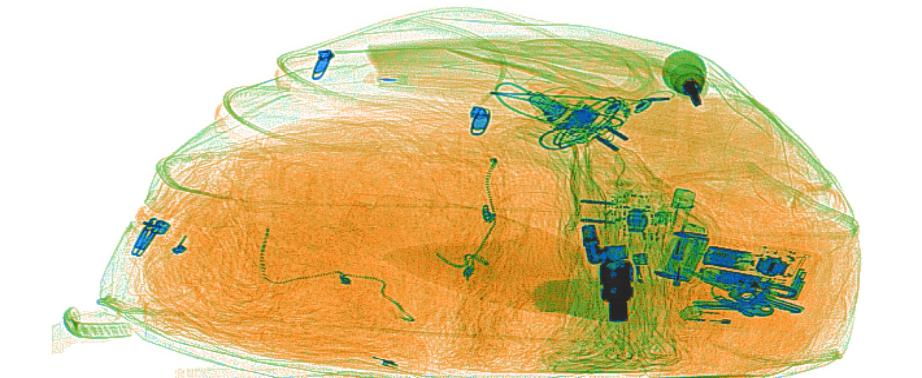battery: (699, 265, 773, 292)
lighter: (642, 219, 710, 333), (648, 185, 698, 295), (675, 302, 797, 334)
